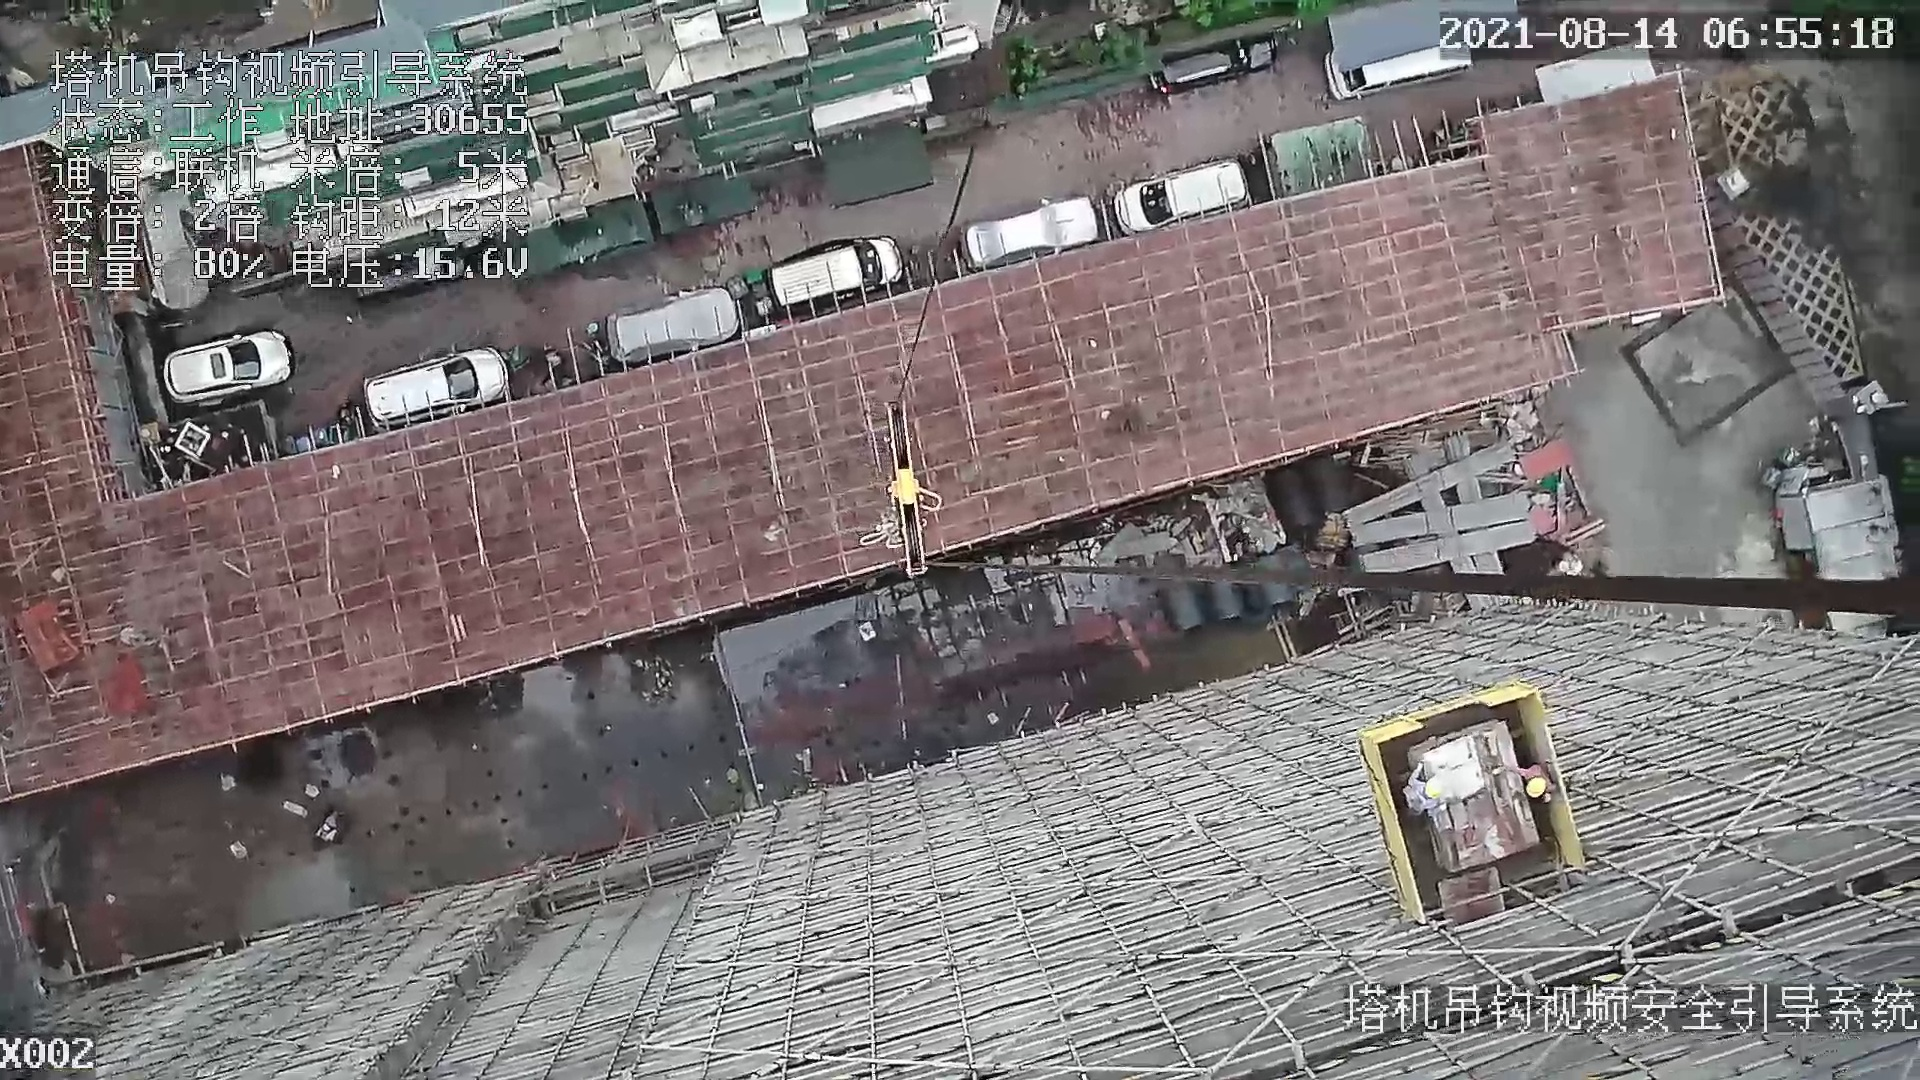board: (1409, 720, 1542, 876)
helmet: (1526, 777, 1546, 798), (1426, 777, 1444, 797)
hook: (876, 397, 942, 578)
person: (1404, 763, 1454, 814), (1500, 760, 1559, 801)
rebar: (1346, 440, 1516, 529), (1351, 490, 1529, 546), (1360, 520, 1534, 572)
